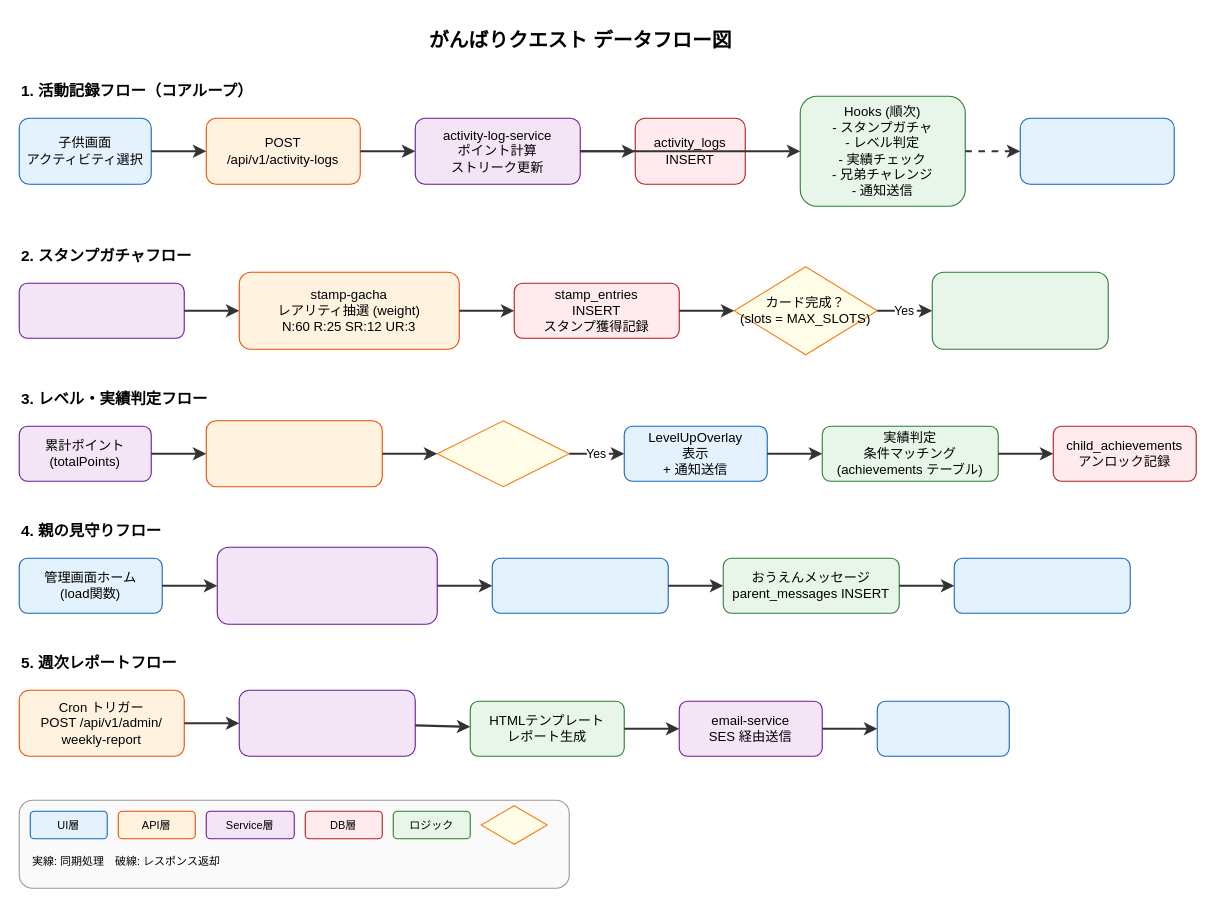
Some shapes in this 1216 by 908 pixel diagram are drawn without their labels. The shapes that lost their labels are listed below. From the top down, each one's centre as x and y in pixels, then its label:
the point at 1096,150: 結果ダイアログ ポイント・シール レベルアップ表示
the point at 101,310: 活動記録完了 (activity-log-service)
the point at 1019,310: 満枠のまま保持 週末にredeemStampCard (週単位: getOrCreate CurrentCard)
the point at 293,453: level-calc 閾値テーブル参照 Lv = f(totalPoints)
the point at 502,453: レベルアップ？
the point at 326,585: child-service 全子供ステータス取得 ポイント・ストリーク・レベル
the point at 579,585: ダッシュボード表示 子供カード一覧 今日の記録状況
the point at 1041,585: 子供画面に表示 ParentMessageOverlay
the point at 326,722: activity-log-service 7日間集計 カテゴリ別サマリ
the point at 942,728: 親のメール受信
the point at 513,824: 判定
